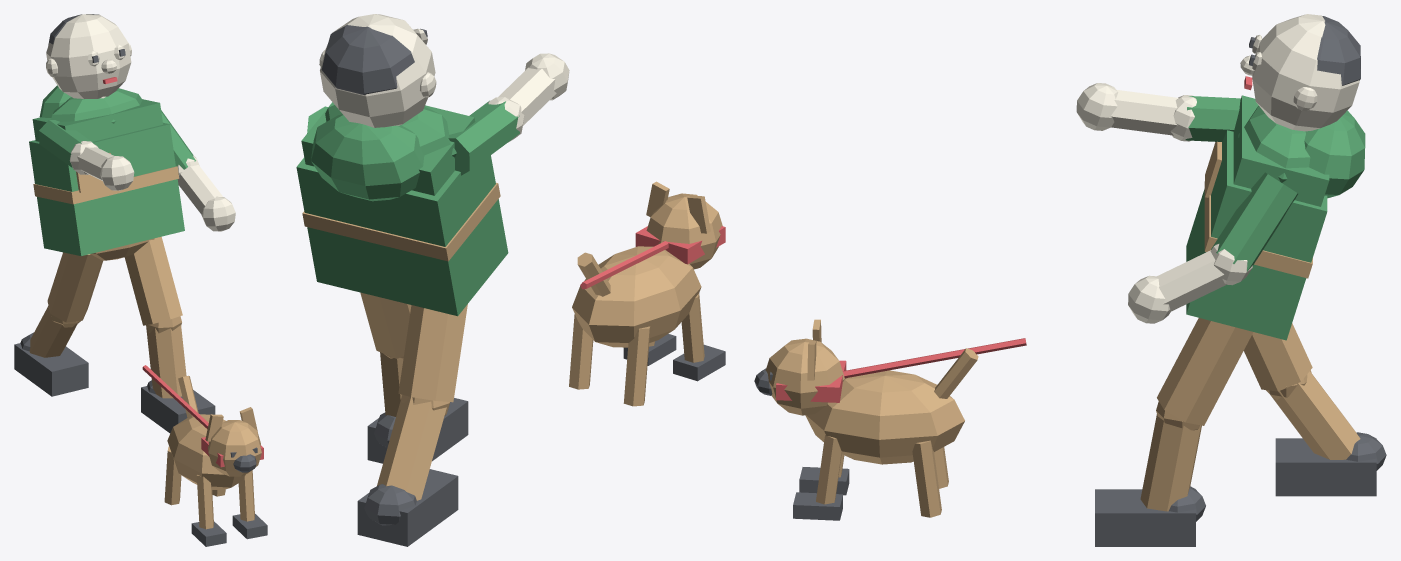
The model's file is lawn-mowing-simulator-kit-dog-walker-being-pulled-1e1b36b1__27354.glb.
3 views of the same model, side by side, from view 1: azimuth 30°, elevation 25°; view 2: azimuth 150°, elevation 25°; view 3: azimuth 270°, elevation 25° (orthographic). The views are drawn at different scales.
Parts seen in each view (by area): view 1: dog-walker-being-pulled; view 2: dog-walker-being-pulled; view 3: dog-walker-being-pulled.
Boxes of the visible parts, <box> form: dog-walker-being-pulled: <box>14,14,267,546</box>; dog-walker-being-pulled: <box>296,14,725,546</box>; dog-walker-being-pulled: <box>754,14,1386,546</box>.
Bounding box in the file's own units: 0.7298 × 1.66 × 1.88.
